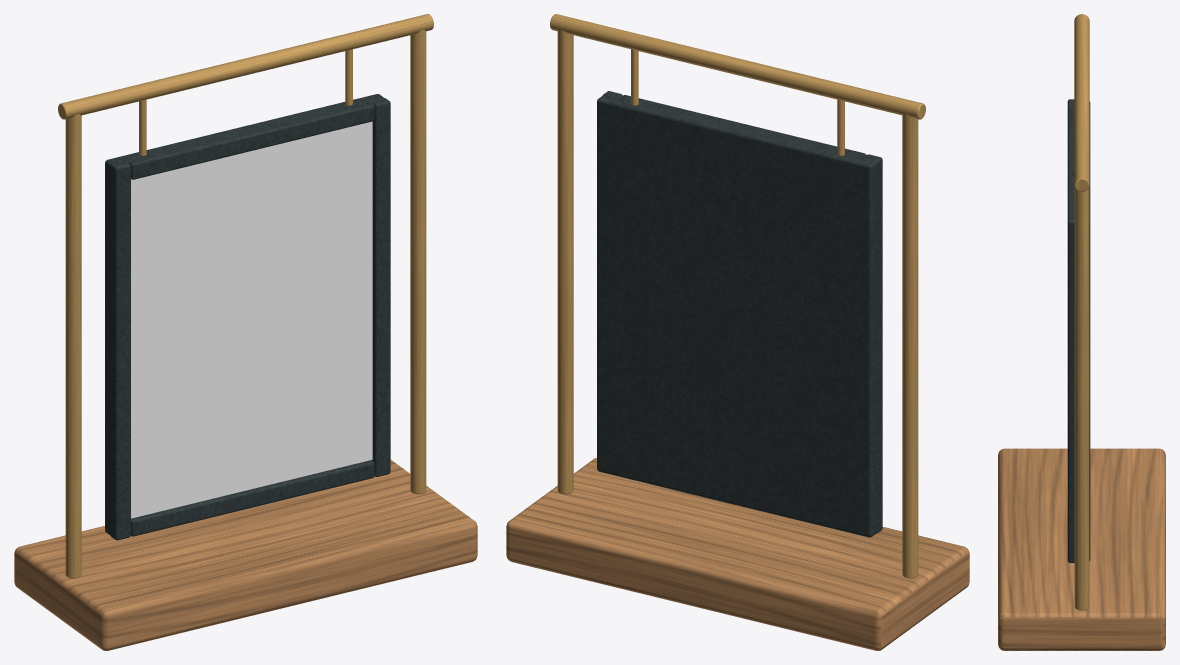
The model's file is preview.glb.
3 views of the same model, side by side, from view 1: azimuth 30°, elevation 25°; view 2: azimuth 150°, elevation 25°; view 3: azimuth 270°, elevation 25° (orthographic). The views are drawn at different scales.
Visible parts, largest first — view 1: Suspended; view 2: Suspended; view 3: Suspended.
Boxes of the visible parts, bbox=[...] form: Suspended: bbox=[14, 14, 477, 650]; Suspended: bbox=[506, 14, 969, 650]; Suspended: bbox=[998, 14, 1165, 650].
Bounding box in the file's own units: 0.19 × 0.2487 × 0.08.
4 materials, 3 textured.
